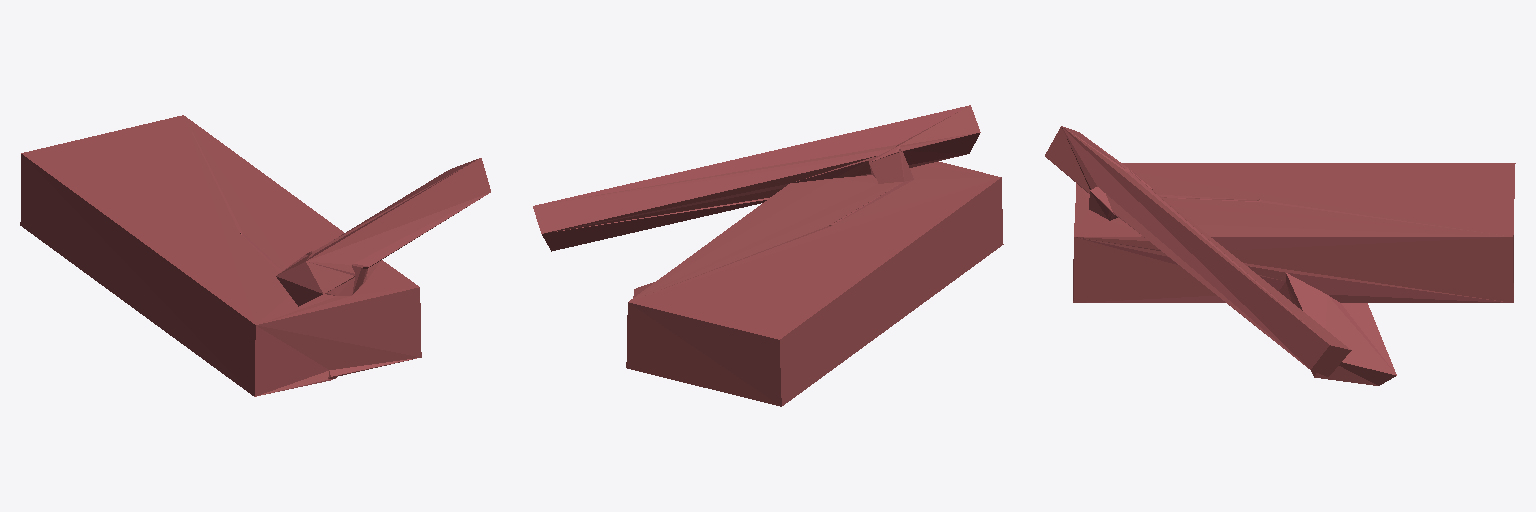
URDF robot description (blob560):

<robot name="blob560">
  <link name="random_obj_560">
    <contact>
      <lateral_friction value="1.0"/>
      <rolling_friction value="0.0"/>
      <inertia_scaling value="3.0"/>
      <contact_cfm value="0.0"/>
      <contact_erp value="1.0"/>
    </contact>
    <inertial>
      <origin rpy="0 0 0" xyz="0 0 0"/>
      <mass value="0.0960"/>
      <inertia ixx="1" ixy="0" ixz="0" iyy="1" iyz="0" izz="0"/>
    </inertial>
    <visual>
      <origin rpy="0 0 0" xyz="0 0 0"/>
      <geometry>
        <mesh filename="560.obj" scale="0.0084 0.0084 0.0084"/>
      </geometry>
      <material name="blockmat">
        <color rgba="0.66 0.37 0.38 1"/>
      </material>
    </visual>
    <collision>
      <origin rpy="0 0 0" xyz="0 0 0"/>
      <geometry>
        <mesh filename="560_coll.obj" scale="0.0084 0.0084 0.0084"/>
      </geometry>
    </collision>
  </link>
</robot>

--- Render facts (derived) ---
Views: 3 orthographic renders of the robot side by side, from view 1: azimuth 30°, elevation 25°; view 2: azimuth 150°, elevation 25°; view 3: azimuth 270°, elevation 25°.
Robot: blob560 — 1 links, 0 joints (none); root link random_obj_560; default pose: every joint at zero.
Visible links, largest first — view 1: random_obj_560; view 2: random_obj_560; view 3: random_obj_560.
Link boxes in pixels (<box>): random_obj_560: <box>20,115,490,396</box>; random_obj_560: <box>533,105,1003,406</box>; random_obj_560: <box>1045,126,1515,385</box>.
Bounding box of the posed robot: 0.0896 × 0.1081 × 0.0464 m (x, y, z).
1 mesh visuals loaded from 1 distinct referenced files (1 OBJ).
